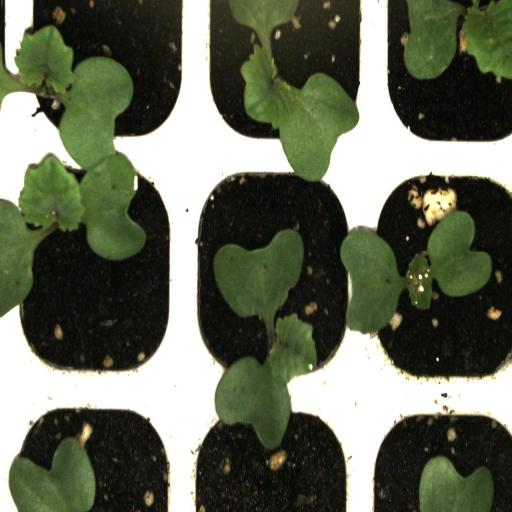seedling: (184, 158, 361, 400), (10, 154, 187, 385), (364, 158, 512, 399), (15, 0, 198, 150), (198, 1, 372, 158), (371, 0, 512, 161)
